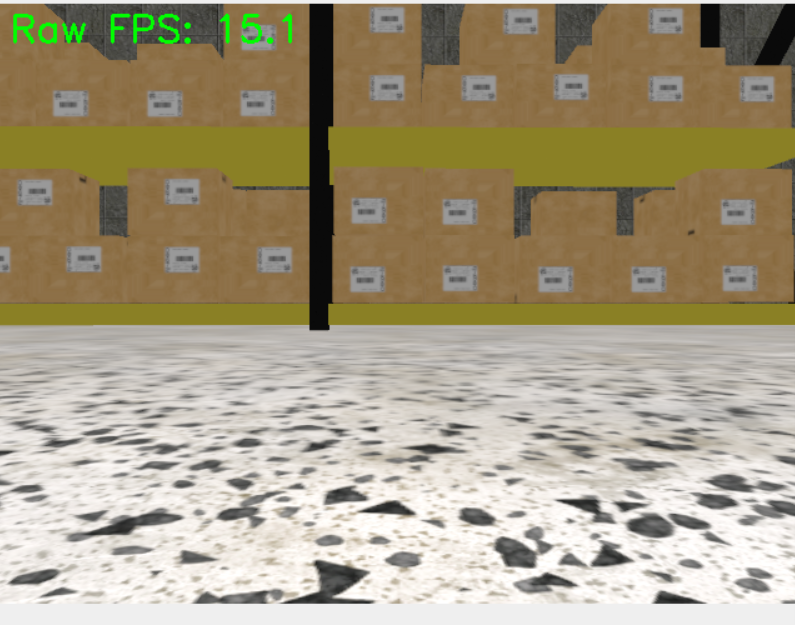barcode: (551, 73, 592, 103), (537, 265, 576, 295), (163, 176, 200, 206), (441, 263, 478, 293), (256, 245, 294, 274), (630, 265, 668, 294), (648, 74, 685, 103), (51, 90, 89, 118), (238, 89, 276, 117), (722, 264, 758, 293), (146, 90, 183, 118), (369, 73, 406, 101), (16, 178, 53, 206), (66, 245, 103, 273), (462, 74, 498, 102), (503, 7, 539, 35), (352, 196, 388, 224), (349, 265, 385, 293), (164, 245, 201, 272), (648, 6, 683, 34), (720, 198, 756, 225), (369, 7, 405, 33), (739, 75, 775, 101), (441, 199, 477, 225)
